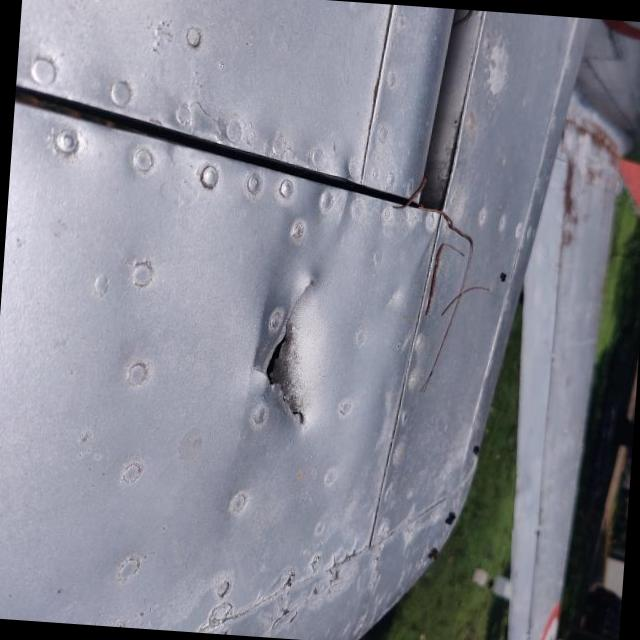Crack: (247, 254, 365, 439)
